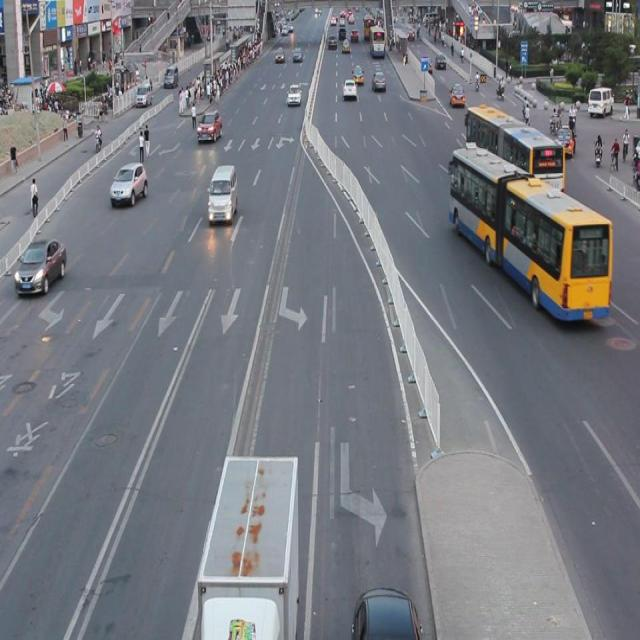bus: (199, 452, 299, 640)
car: (353, 585, 422, 640), (15, 238, 67, 293), (110, 162, 148, 205)
truck: (207, 164, 238, 222)
van: (450, 147, 609, 321), (465, 106, 564, 202)
